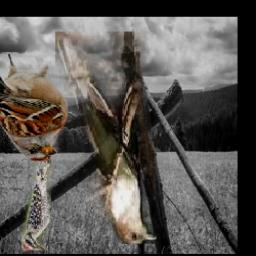Cuckoo: (56, 32, 158, 245)
Sparrow: (0, 52, 69, 161)
Woodpecker: (23, 145, 52, 251)
